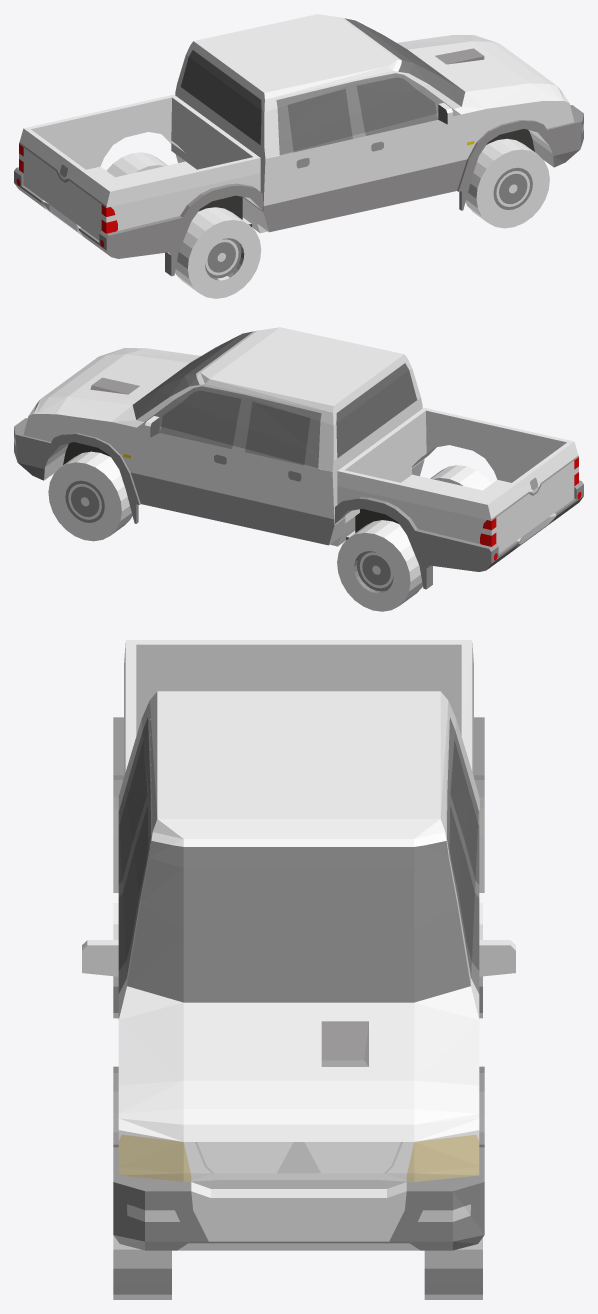
Rendered from mitsubishi_l200.glb.
3 renders of one model, top to bottom at view 1: azimuth 30°, elevation 25°; view 2: azimuth 150°, elevation 25°; view 3: azimuth 270°, elevation 25°, orthographic. The views are drawn at different scales.
Visible parts, largest first — view 1: Mesh1 Model, Mesh5 Model, Mesh3 Model, Mesh7 Model; view 2: Mesh1 Model, Mesh7 Model, Mesh6 Model, Mesh5 Model; view 3: Mesh1 Model, Mesh3 Model, Mesh6 Model, Mesh2 Model, Mesh4 Model.
Boxes of the visible parts, x1,y1,x2,y2 form: Mesh1 Model: (14,14,583,276); Mesh5 Model: (175,207,261,298); Mesh3 Model: (465,138,549,228); Mesh7 Model: (106,152,167,177); Mesh1 Model: (14,327,583,589); Mesh7 Model: (337,520,422,611); Mesh6 Model: (48,451,132,541); Mesh5 Model: (430,465,491,490); Mesh1 Model: (113,640,484,1250); Mesh3 Model: (113,1235,171,1299); Mesh6 Model: (424,1237,482,1299); Mesh2 Model: (479,940,515,976); Mesh4 Model: (82,940,118,976).
Bounding box in the file's own units: 5.2 × 1.89 × 2.02.
